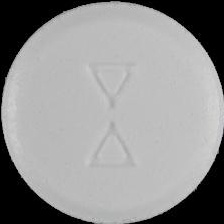55154-6176: (0, 0, 224, 224)
